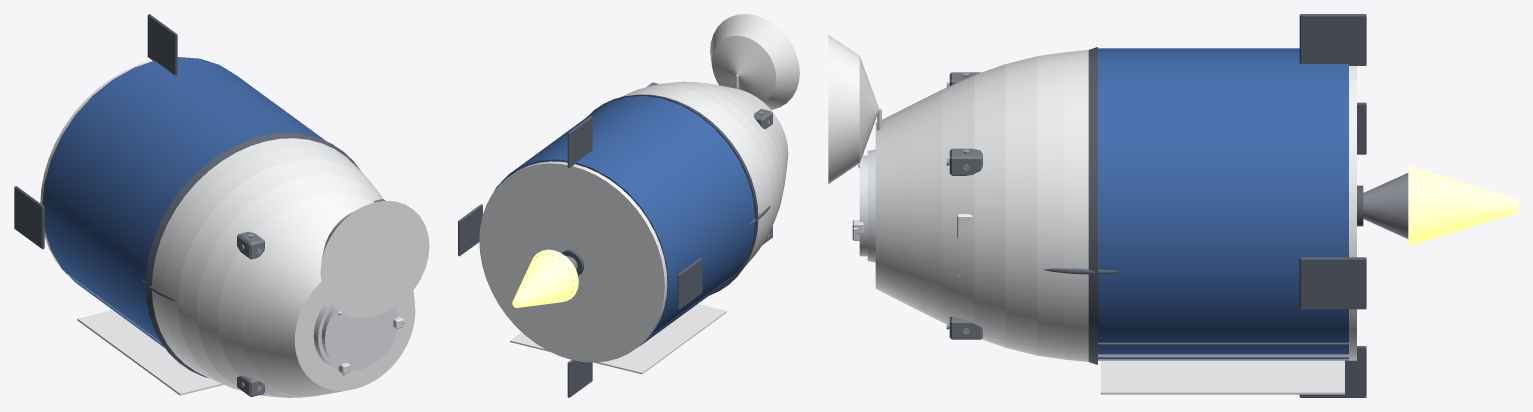
File: earth_to_iss_crew_ship.glb
3 renders of one model, left to right at view 1: azimuth 30°, elevation 25°; view 2: azimuth 150°, elevation 25°; view 3: azimuth 270°, elevation 25°, orthographic. The views are drawn at different scales.
Parts seen in each view (by area): view 1: CrewTransport_CapsuleAndTrunkWhite, CrewTransport_SolarCells, CrewTransport_HeatShieldAndTrim, CrewTransport_IDSSDockingRing, CrewTransport_RCSThrusters; view 2: CrewTransport_CapsuleAndTrunkWhite, CrewTransport_SolarCells, CrewTransport_HeatShieldAndTrim, CrewTransport_RocketExhaustPlume, CrewTransport_RCSThrusters; view 3: CrewTransport_SolarCells, CrewTransport_CapsuleAndTrunkWhite, CrewTransport_HeatShieldAndTrim, CrewTransport_RocketExhaustPlume, CrewTransport_RocketNozzle, CrewTransport_IDSSDockingRing, CrewTransport_RCSThrusters.
Boxes of the visible parts, left/top/right/bottom form: CrewTransport_CapsuleAndTrunkWhite: left=40, top=57, right=429, bottom=397; CrewTransport_SolarCells: left=42, top=57, right=326, bottom=347; CrewTransport_HeatShieldAndTrim: left=14, top=14, right=360, bottom=378; CrewTransport_IDSSDockingRing: left=313, top=300, right=405, bottom=375; CrewTransport_RCSThrusters: left=237, top=199, right=385, bottom=396; CrewTransport_CapsuleAndTrunkWhite: left=479, top=14, right=799, bottom=374; CrewTransport_SolarCells: left=494, top=96, right=754, bottom=346; CrewTransport_HeatShieldAndTrim: left=458, top=94, right=770, bottom=397; CrewTransport_RocketExhaustPlume: left=512, top=249, right=578, bottom=307; CrewTransport_RCSThrusters: left=646, top=82, right=772, bottom=244; CrewTransport_SolarCells: left=1098, top=48, right=1348, bottom=360; CrewTransport_CapsuleAndTrunkWhite: left=828, top=35, right=1356, bottom=394; CrewTransport_HeatShieldAndTrim: left=1043, top=14, right=1366, bottom=397; CrewTransport_RocketExhaustPlume: left=1408, top=165, right=1518, bottom=246; CrewTransport_RocketNozzle: left=946, top=73, right=1408, bottom=334; CrewTransport_IDSSDockingRing: left=852, top=108, right=881, bottom=262; CrewTransport_RCSThrusters: left=949, top=72, right=982, bottom=339.
Bounding box in the file's own units: 4.69 × 5.36 × 8.75.
